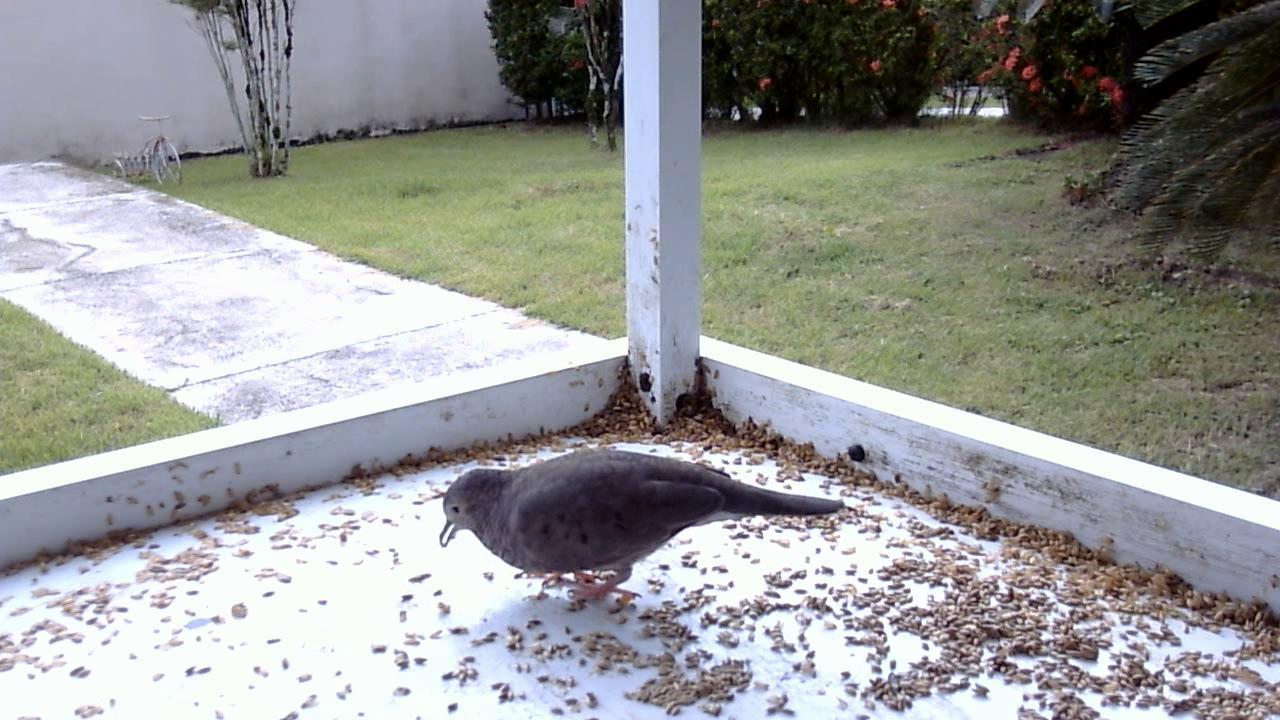rolinha: (430, 436, 854, 627)
